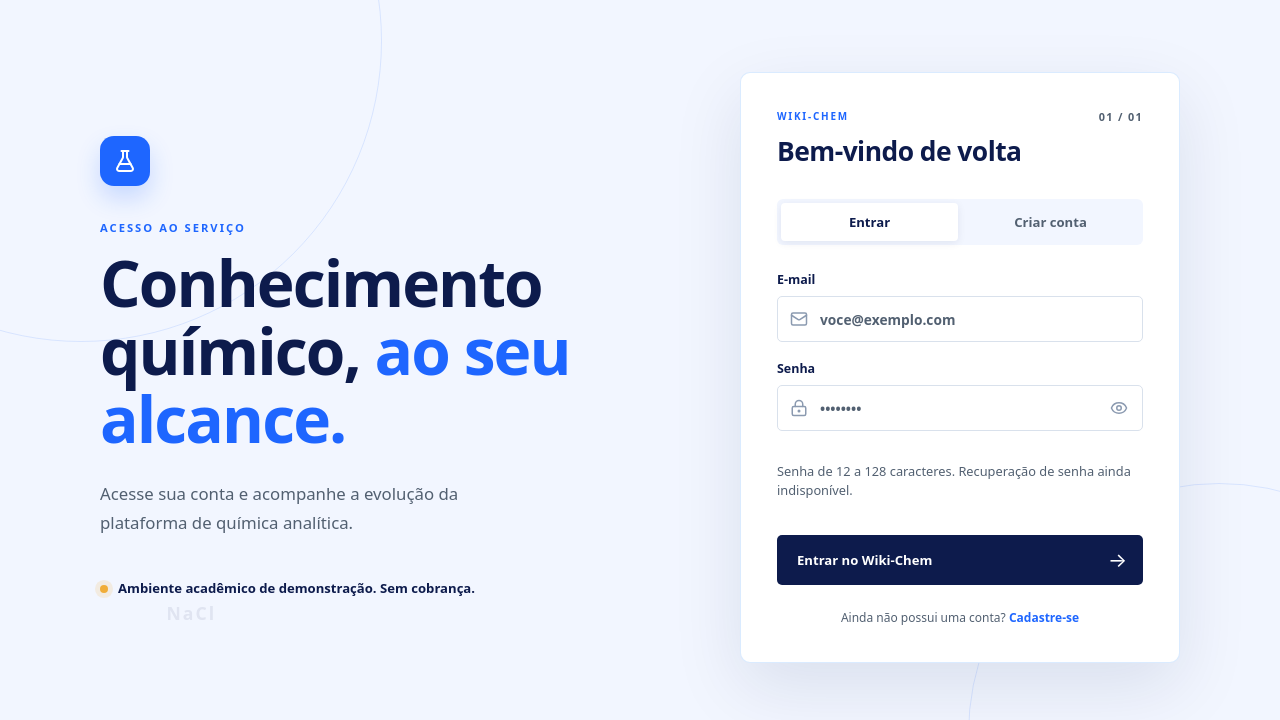
Test: interface do formulário de acesso › mostra e oculta a senha digitada sem alterar seu valor
Type "exemplo-local" into the password field with placeholder "••••••••" at (960, 408), box [777,385,1143,431]
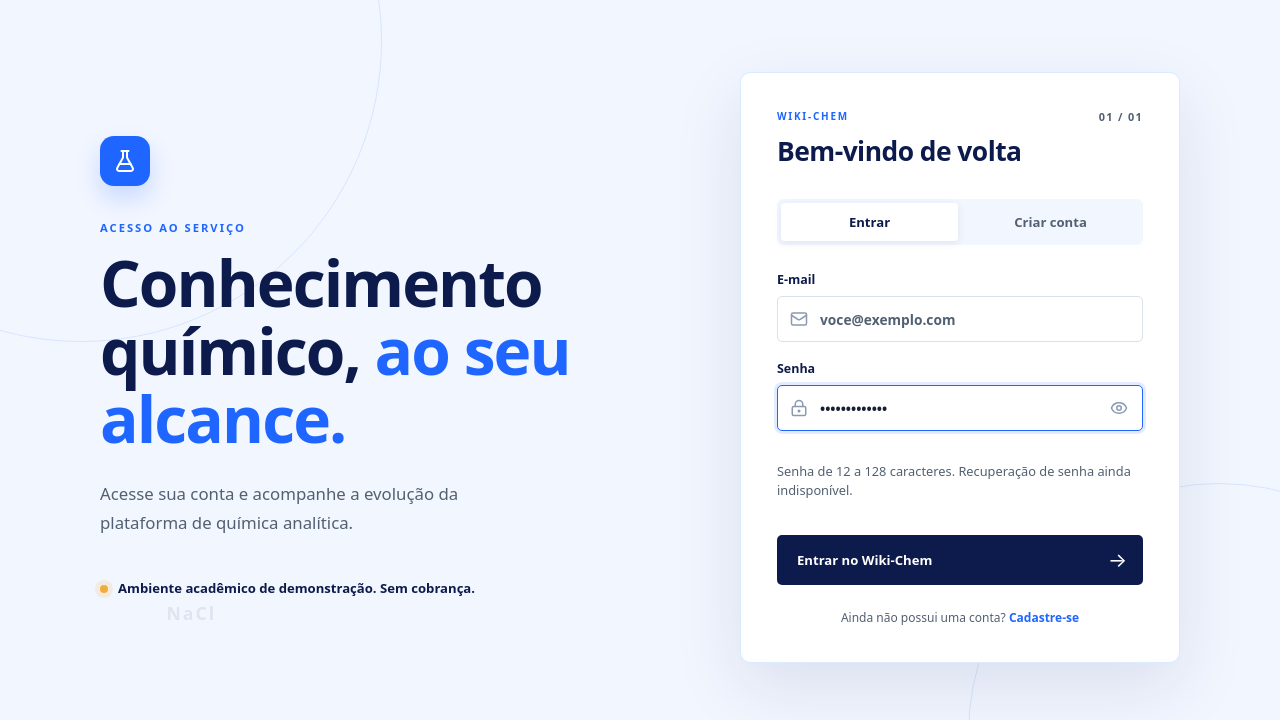
Click the button named "Mostrar senha" at (1119, 408), box [1105,394,1133,422]
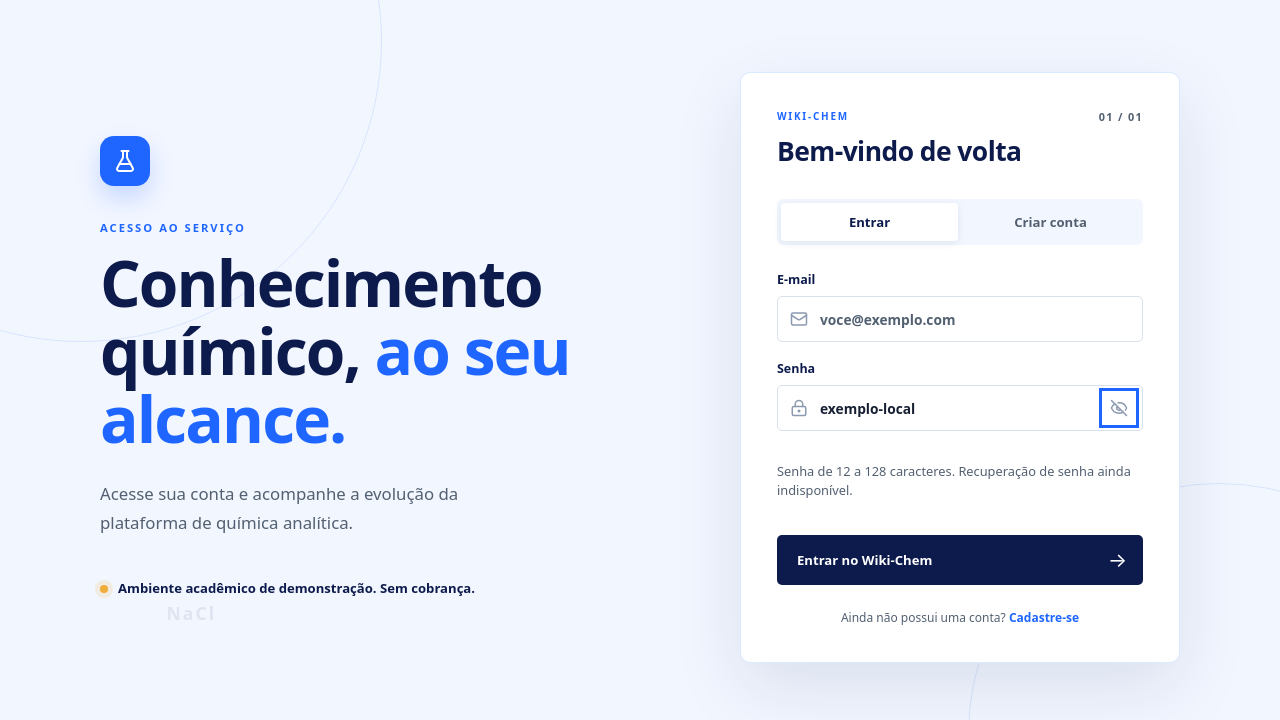
Check: the field with placeholder "••••••••" shows its text, box [777,385,1143,431]
Click the button named "Ocultar senha" at (1119, 408), box [1105,394,1133,422]
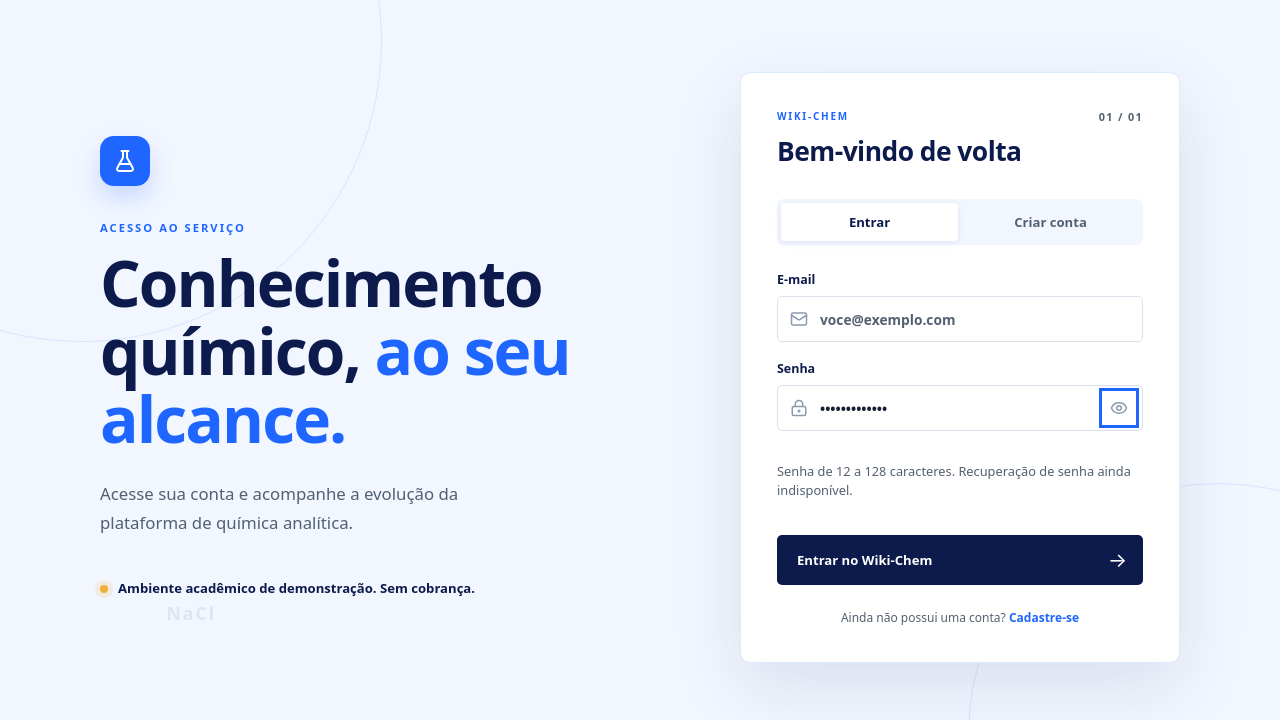
Check: the password field with placeholder "••••••••" hides its text, box [777,385,1143,431]
